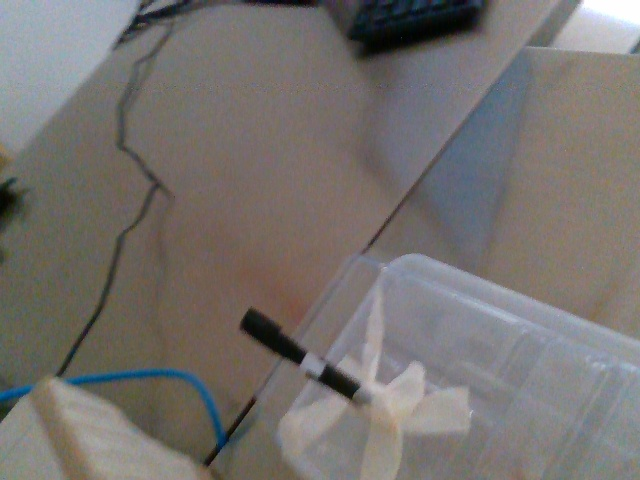test_strip: (235, 307, 326, 377)
